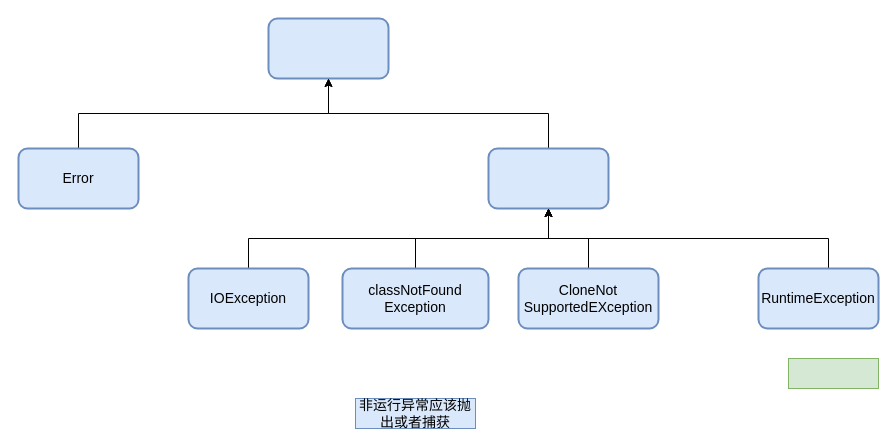
The diagram is 896 pixels wide and 447 high, and some of its shapes have lost their labels. The centre of each missing label's shape, as x and y in pixels:
Exception: point 548,178
jvm虚拟机自动处理: point 833,373
Throwable: point 328,48
